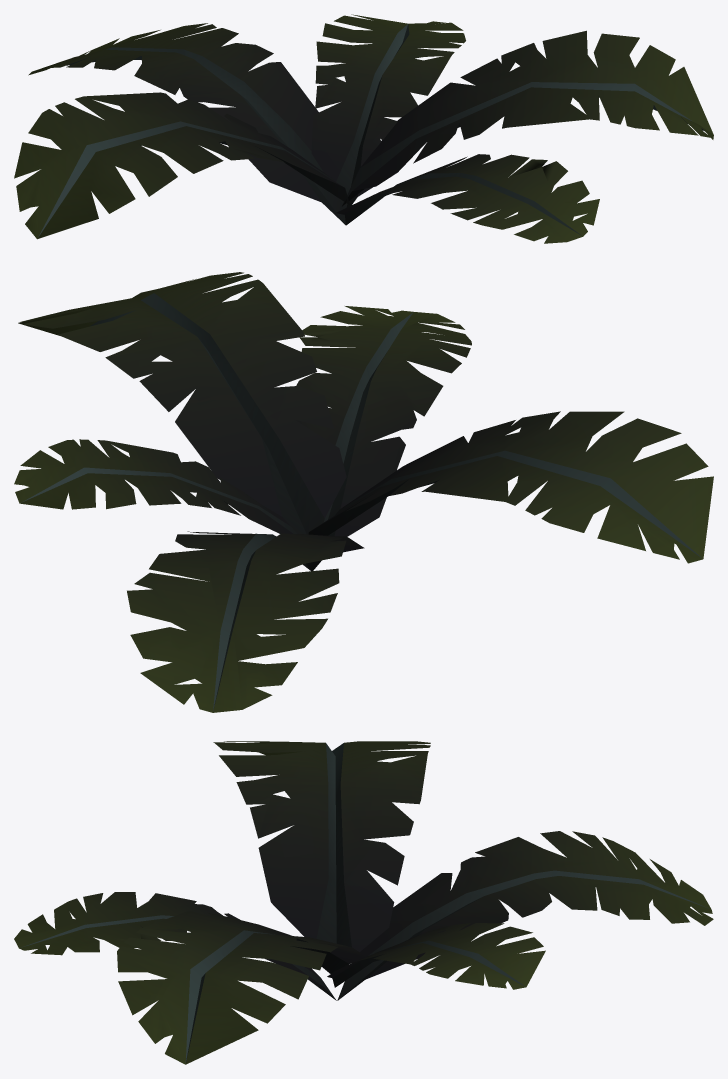
File: GrassPlant.obj
3 renders of one model, top to bottom at view 1: azimuth 30°, elevation 25°; view 2: azimuth 150°, elevation 25°; view 3: azimuth 270°, elevation 25°, orthographic. The views are drawn at different scales.
Visible parts, largest first — view 1: Plant012, Plant010, Plant011, Plant014, Plant013; view 2: Plant012, Plant010, Plant011, Plant013, Plant014; view 3: Plant010, Plant012, Plant011, Plant014, Plant013.
Boxes of the visible parts, x1,y1,x2,y2 form: Plant012: [342, 30, 713, 206]; Plant010: [14, 92, 349, 239]; Plant011: [28, 23, 345, 225]; Plant014: [311, 14, 465, 209]; Plant013: [335, 154, 599, 243]; Plant012: [18, 272, 346, 534]; Plant010: [308, 411, 713, 563]; Plant011: [127, 531, 364, 712]; Plant013: [295, 306, 471, 536]; Plant014: [14, 439, 297, 533]; Plant010: [213, 741, 430, 984]; Plant012: [117, 911, 366, 1064]; Plant011: [337, 831, 713, 1000]; Plant014: [327, 923, 545, 989]; Plant013: [14, 892, 336, 1000].
Size of the model in its own units: 33.71 by 7.65 by 33.6.
